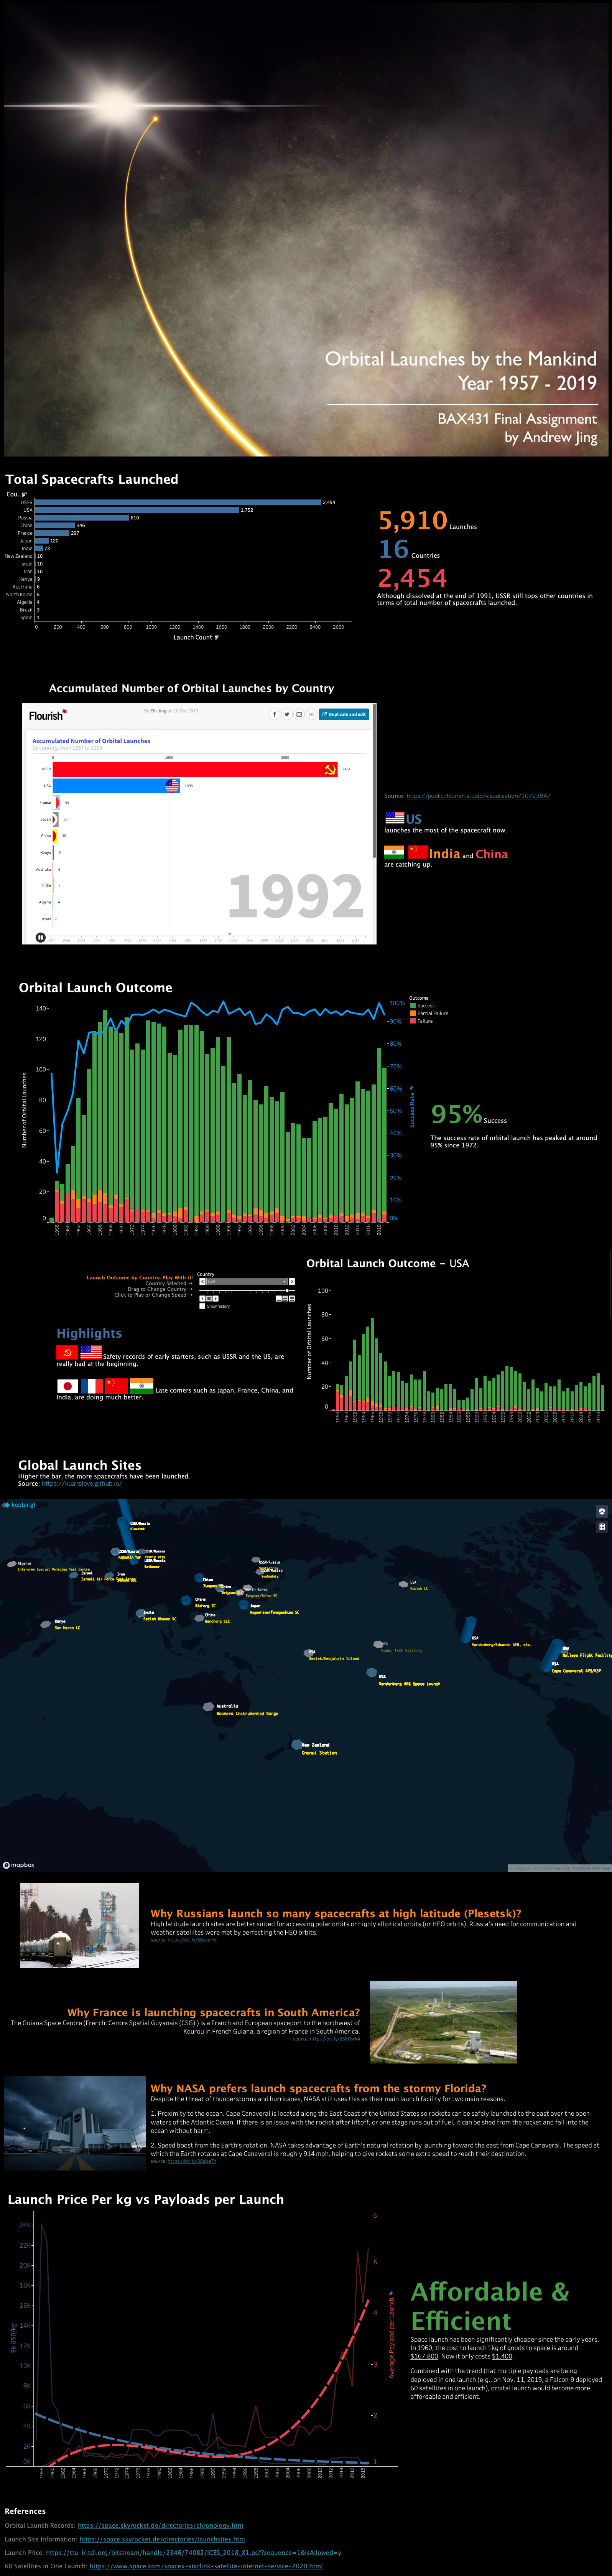

The dashboard page shown, as its layout file describes it:
{"tool":"tableau","page":{"name":"Dashboard 1","canvas":[1600,7000],"ordinal":0},"visuals":[{"type":"image","param":"Image/Cover.png","box":[8,8,1584,6984]},{"type":"worksheet","title":"Total Launch","mark":"Bar","rows":["Country"],"cols":["Number of Records"],"box":[11,1230,1010,498]},{"type":"text","box":[982,1267,604,374]},{"type":"web page","param":"https://public.flourish.studio/visualisation/1072394/","box":[58,1836,925,630]},{"type":"text","box":[1001,2020,591,298]},{"type":"image","param":"Image/usflag.png","box":[1005,2110,62,52]},{"type":"image","param":"Image/cnflag.png","box":[1064,2197,74,56]},{"type":"image","param":"Image/inflag.png","box":[1001,2198,64,55]},{"type":"worksheet","title":"Safety","mark":"Bar","rows":["Number of Records","Calculation_934778461743603712"],"cols":["Date"],"box":[46,2555,1047,676]},{"type":"legend","title":"Safety","param":"[federated.0ibbbrd0v8u10x1d1xomp0zyfqmr].[none:Success:nk]","box":[1068,2597,140,85]},{"type":"text","box":[1121,2786,449,297]},{"type":"worksheet","title":"Safety-Playable","mark":"Bar","rows":["Number of Records"],"cols":["Date"],"box":[796,3277,782,437]},{"type":"text","box":[137,3316,370,84]},{"type":"currpage","title":"Safety-Playable","box":[515,3317,261,143]},{"type":"text","box":[146,3443,629,233]},{"type":"image","param":"Image/usflag.png","box":[209,3500,59,62]},{"type":"image","param":"Image/ussrflag.jpg","box":[148,3511,57,42]},{"type":"image","param":"Image/inflag.png","box":[338,3584,79,65]},{"type":"image","param":"Image/cnflag.png","box":[273,3585,74,64]},{"type":"image","param":"Image/frflag.png","box":[210,3587,71,61]},{"type":"image","param":"Image/jpflag.png","box":[149,3589,65,57]},{"type":"text","box":[46,3791,884,105]},{"type":"web page","param":"https://kuanslove.github.io","box":[0,3912,1599,972]},{"type":"image","param":"Image/Plesetsk.jpg","box":[53,4913,332,221]},{"type":"text","box":[392,4961,1176,719]},{"type":"image","param":"Image/france.jpg","box":[966,5168,383,245]},{"type":"text","box":[18,5175,925,213]},{"type":"image","param":"Image/florida.jpg","box":[12,5416,370,299]},{"type":"worksheet","title":"Future Launch Cost","mark":"Automatic","rows":["$k/kg","Calculation_629096637362806784"],"cols":["Date"],"box":[17,5714,1023,753]},{"type":"text","box":[1069,5772,511,665]},{"type":"text","box":[11,6495,1466,255]},{"type":"image","param":"Image/thankyou.png","box":[264,6750,1108,231]}]}

Visuals, with their boxes on the page's 1600x7000 design canvas (x1, y1, x2, y2). These are canvas units, not pixel positions in the 612x2576 screenshot, which may show the page scaled, cropped or inside an application window:
image: [x1=8, y1=8, x2=1592, y2=6992]
"Total Launch" worksheet (Bar marks): [x1=11, y1=1230, x2=1021, y2=1728]
text: [x1=982, y1=1267, x2=1586, y2=1641]
web page: [x1=58, y1=1836, x2=983, y2=2466]
text: [x1=1001, y1=2020, x2=1592, y2=2318]
image: [x1=1005, y1=2110, x2=1067, y2=2162]
image: [x1=1064, y1=2197, x2=1138, y2=2253]
image: [x1=1001, y1=2198, x2=1065, y2=2253]
"Safety" worksheet (Bar marks): [x1=46, y1=2555, x2=1093, y2=3231]
"Safety" legend: [x1=1068, y1=2597, x2=1208, y2=2682]
text: [x1=1121, y1=2786, x2=1570, y2=3083]
"Safety-Playable" worksheet (Bar marks): [x1=796, y1=3277, x2=1578, y2=3714]
text: [x1=137, y1=3316, x2=507, y2=3400]
"Safety-Playable" currpage: [x1=515, y1=3317, x2=776, y2=3460]
text: [x1=146, y1=3443, x2=775, y2=3676]
image: [x1=209, y1=3500, x2=268, y2=3562]
image: [x1=148, y1=3511, x2=205, y2=3553]
image: [x1=338, y1=3584, x2=417, y2=3649]
image: [x1=273, y1=3585, x2=347, y2=3649]
image: [x1=210, y1=3587, x2=281, y2=3648]
image: [x1=149, y1=3589, x2=214, y2=3646]
text: [x1=46, y1=3791, x2=930, y2=3896]
web page: [x1=0, y1=3912, x2=1599, y2=4884]
image: [x1=53, y1=4913, x2=385, y2=5134]
text: [x1=392, y1=4961, x2=1568, y2=5680]
image: [x1=966, y1=5168, x2=1349, y2=5413]
text: [x1=18, y1=5175, x2=943, y2=5388]
image: [x1=12, y1=5416, x2=382, y2=5715]
"Future Launch Cost" worksheet: [x1=17, y1=5714, x2=1040, y2=6467]
text: [x1=1069, y1=5772, x2=1580, y2=6437]
text: [x1=11, y1=6495, x2=1477, y2=6750]
image: [x1=264, y1=6750, x2=1372, y2=6981]
